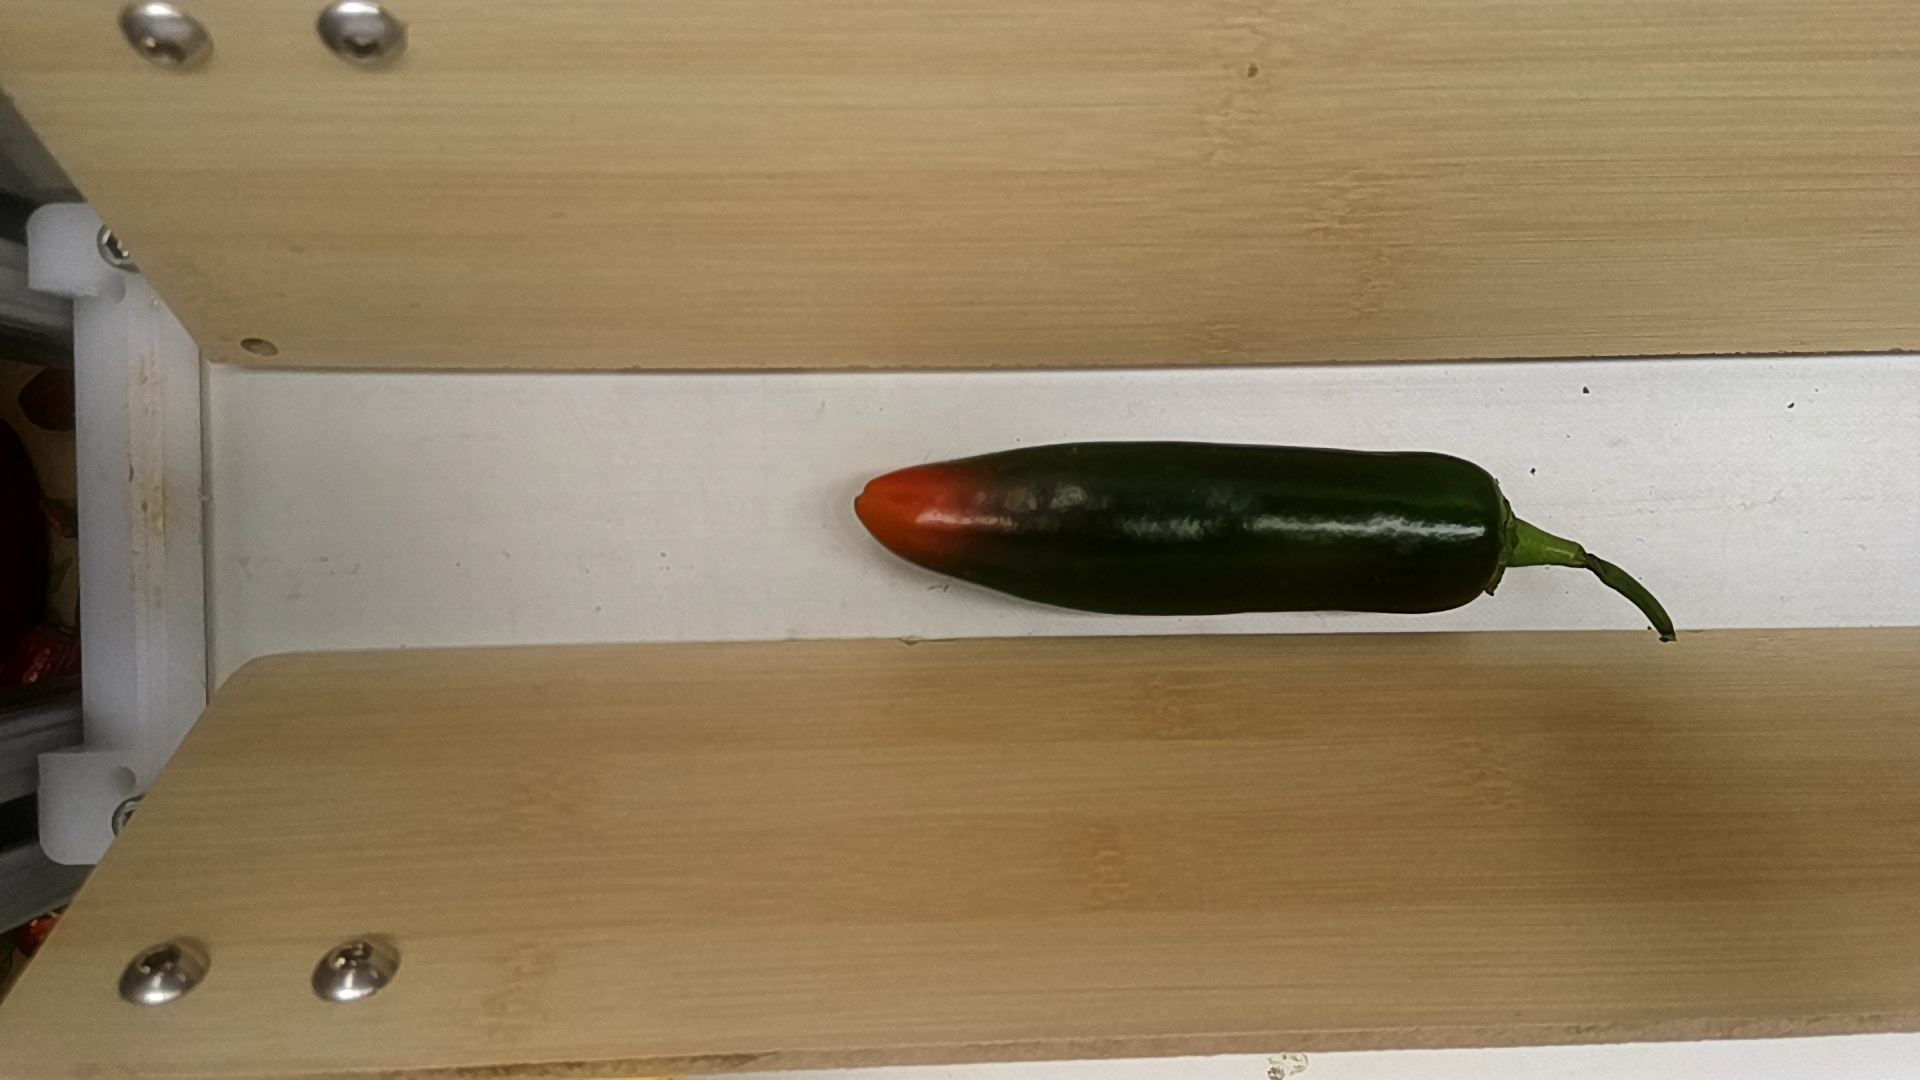Cut Point: (1455, 450, 1531, 607)
